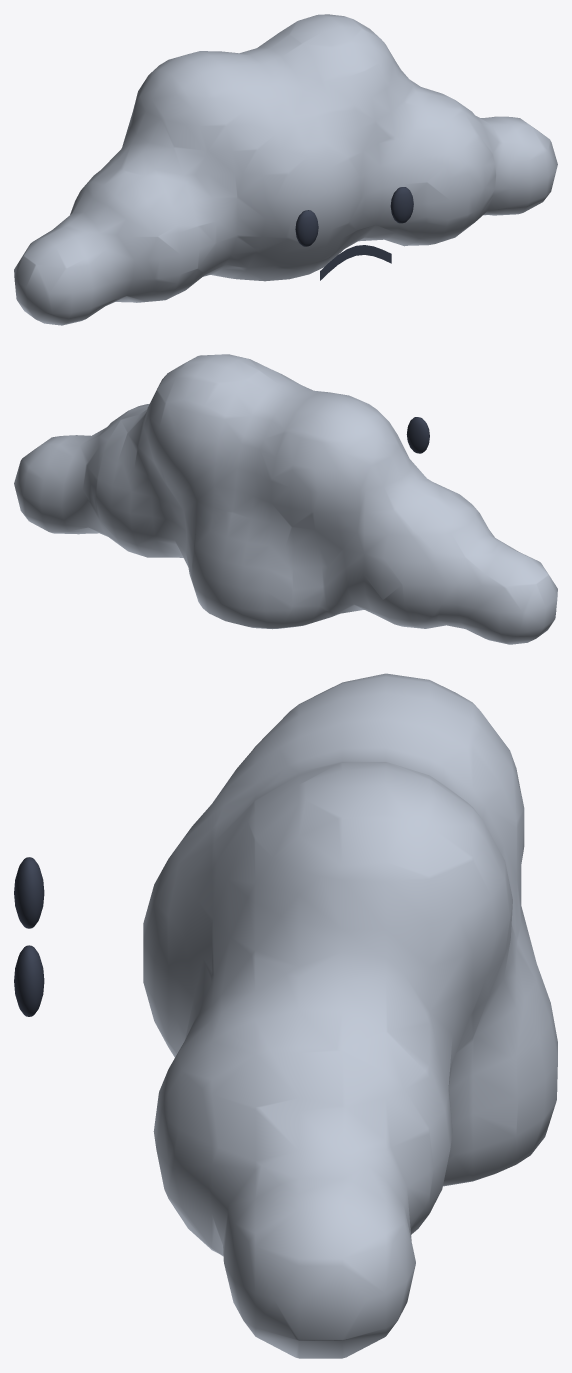
File: rain_cloud.glb
3 renders of one model, top to bottom at view 1: azimuth 30°, elevation 25°; view 2: azimuth 150°, elevation 25°; view 3: azimuth 270°, elevation 25°, orthographic. The views are drawn at different scales.
Visible parts, largest first — view 1: PRP_Cloud, PRP_CloudMouth, PRP_CloudEye0, PRP_CloudEye1; view 2: PRP_Cloud, PRP_CloudEye0; view 3: PRP_Cloud, PRP_CloudEye0, PRP_CloudEye1.
Part boxes in pixels (<box>): PRP_Cloud: <box>14,14,557,325</box>; PRP_CloudMouth: <box>320,245,391,280</box>; PRP_CloudEye0: <box>295,210,318,246</box>; PRP_CloudEye1: <box>390,187,413,223</box>; PRP_Cloud: <box>14,354,557,644</box>; PRP_CloudEye0: <box>406,417,429,453</box>; PRP_Cloud: <box>143,673,557,1358</box>; PRP_CloudEye0: <box>14,857,44,928</box>; PRP_CloudEye1: <box>14,945,44,1016</box>.
Size of the model in its own units: 1.34 by 0.5522 by 0.6252.
